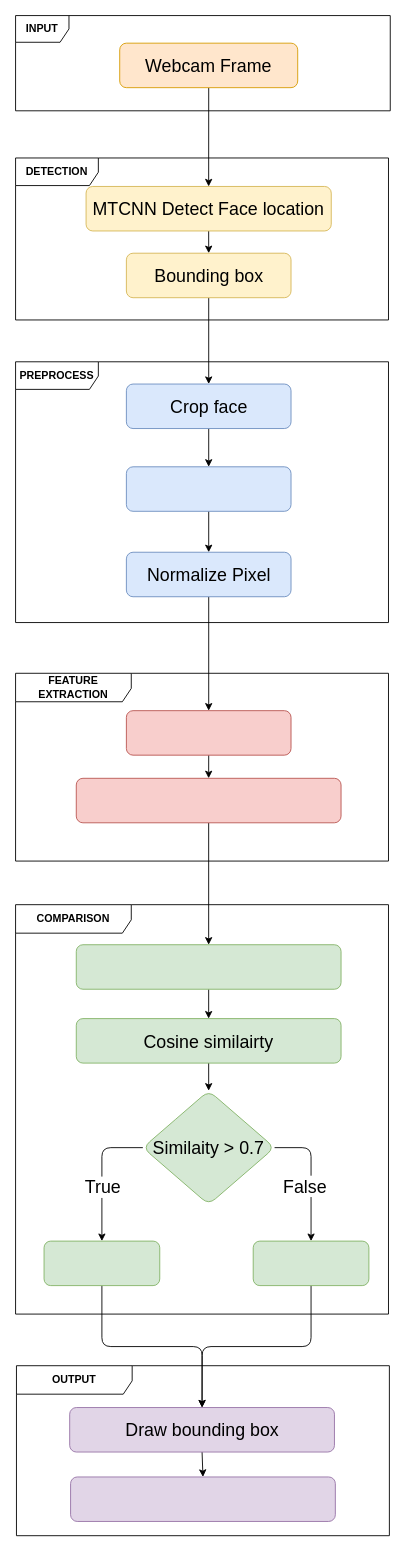
Image size: 406x1551. Some labels were removed from this diagram. The shapes that lost their labels are listed below. From the top down, each one's centre as x and y in pixels, then its label:
At [208,488]: "Resize".
At [208,732]: "FaceNet".
At [208,800]: "512-D embedding vector".
At [208,966]: "Compare with database embeddings".
At [101,1263]: "Matched".
At [310,1263]: "Unkown".
At [202,1498]: "Show result realtime".
